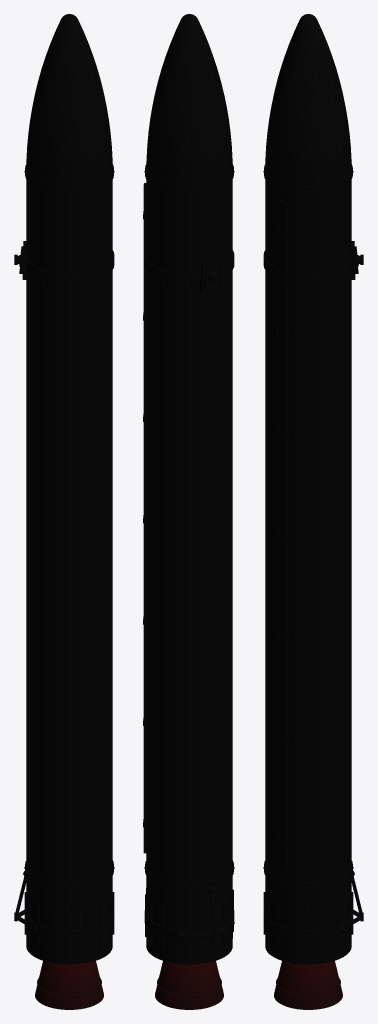
The model's file is booster_small_solid.fbx.
3 renders of one model, left to right at view 1: azimuth 90°, elevation 25°; view 2: azimuth 210°, elevation 25°; view 3: azimuth 270°, elevation 25°, orthographic.
Parts seen in each view (by area): view 1: booster_small_solid_LOD0; view 2: booster_small_solid_LOD0; view 3: booster_small_solid_LOD0.
Part boxes in pixels (x1,y1,x2,y2): booster_small_solid_LOD0: (14, 14, 114, 1009); booster_small_solid_LOD0: (143, 14, 234, 1009); booster_small_solid_LOD0: (263, 14, 363, 1009).
Size of what is drawn, in the model's own units: 1.67 by 20 by 1.85.
